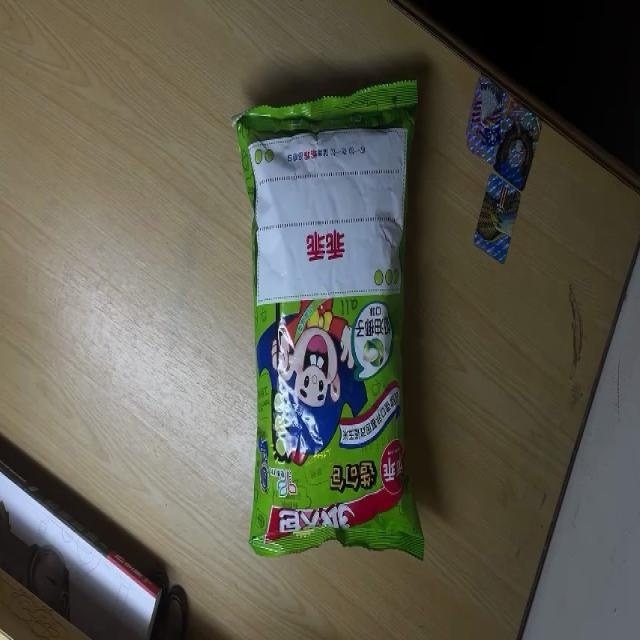Good-Luck: (230, 76, 424, 561)
